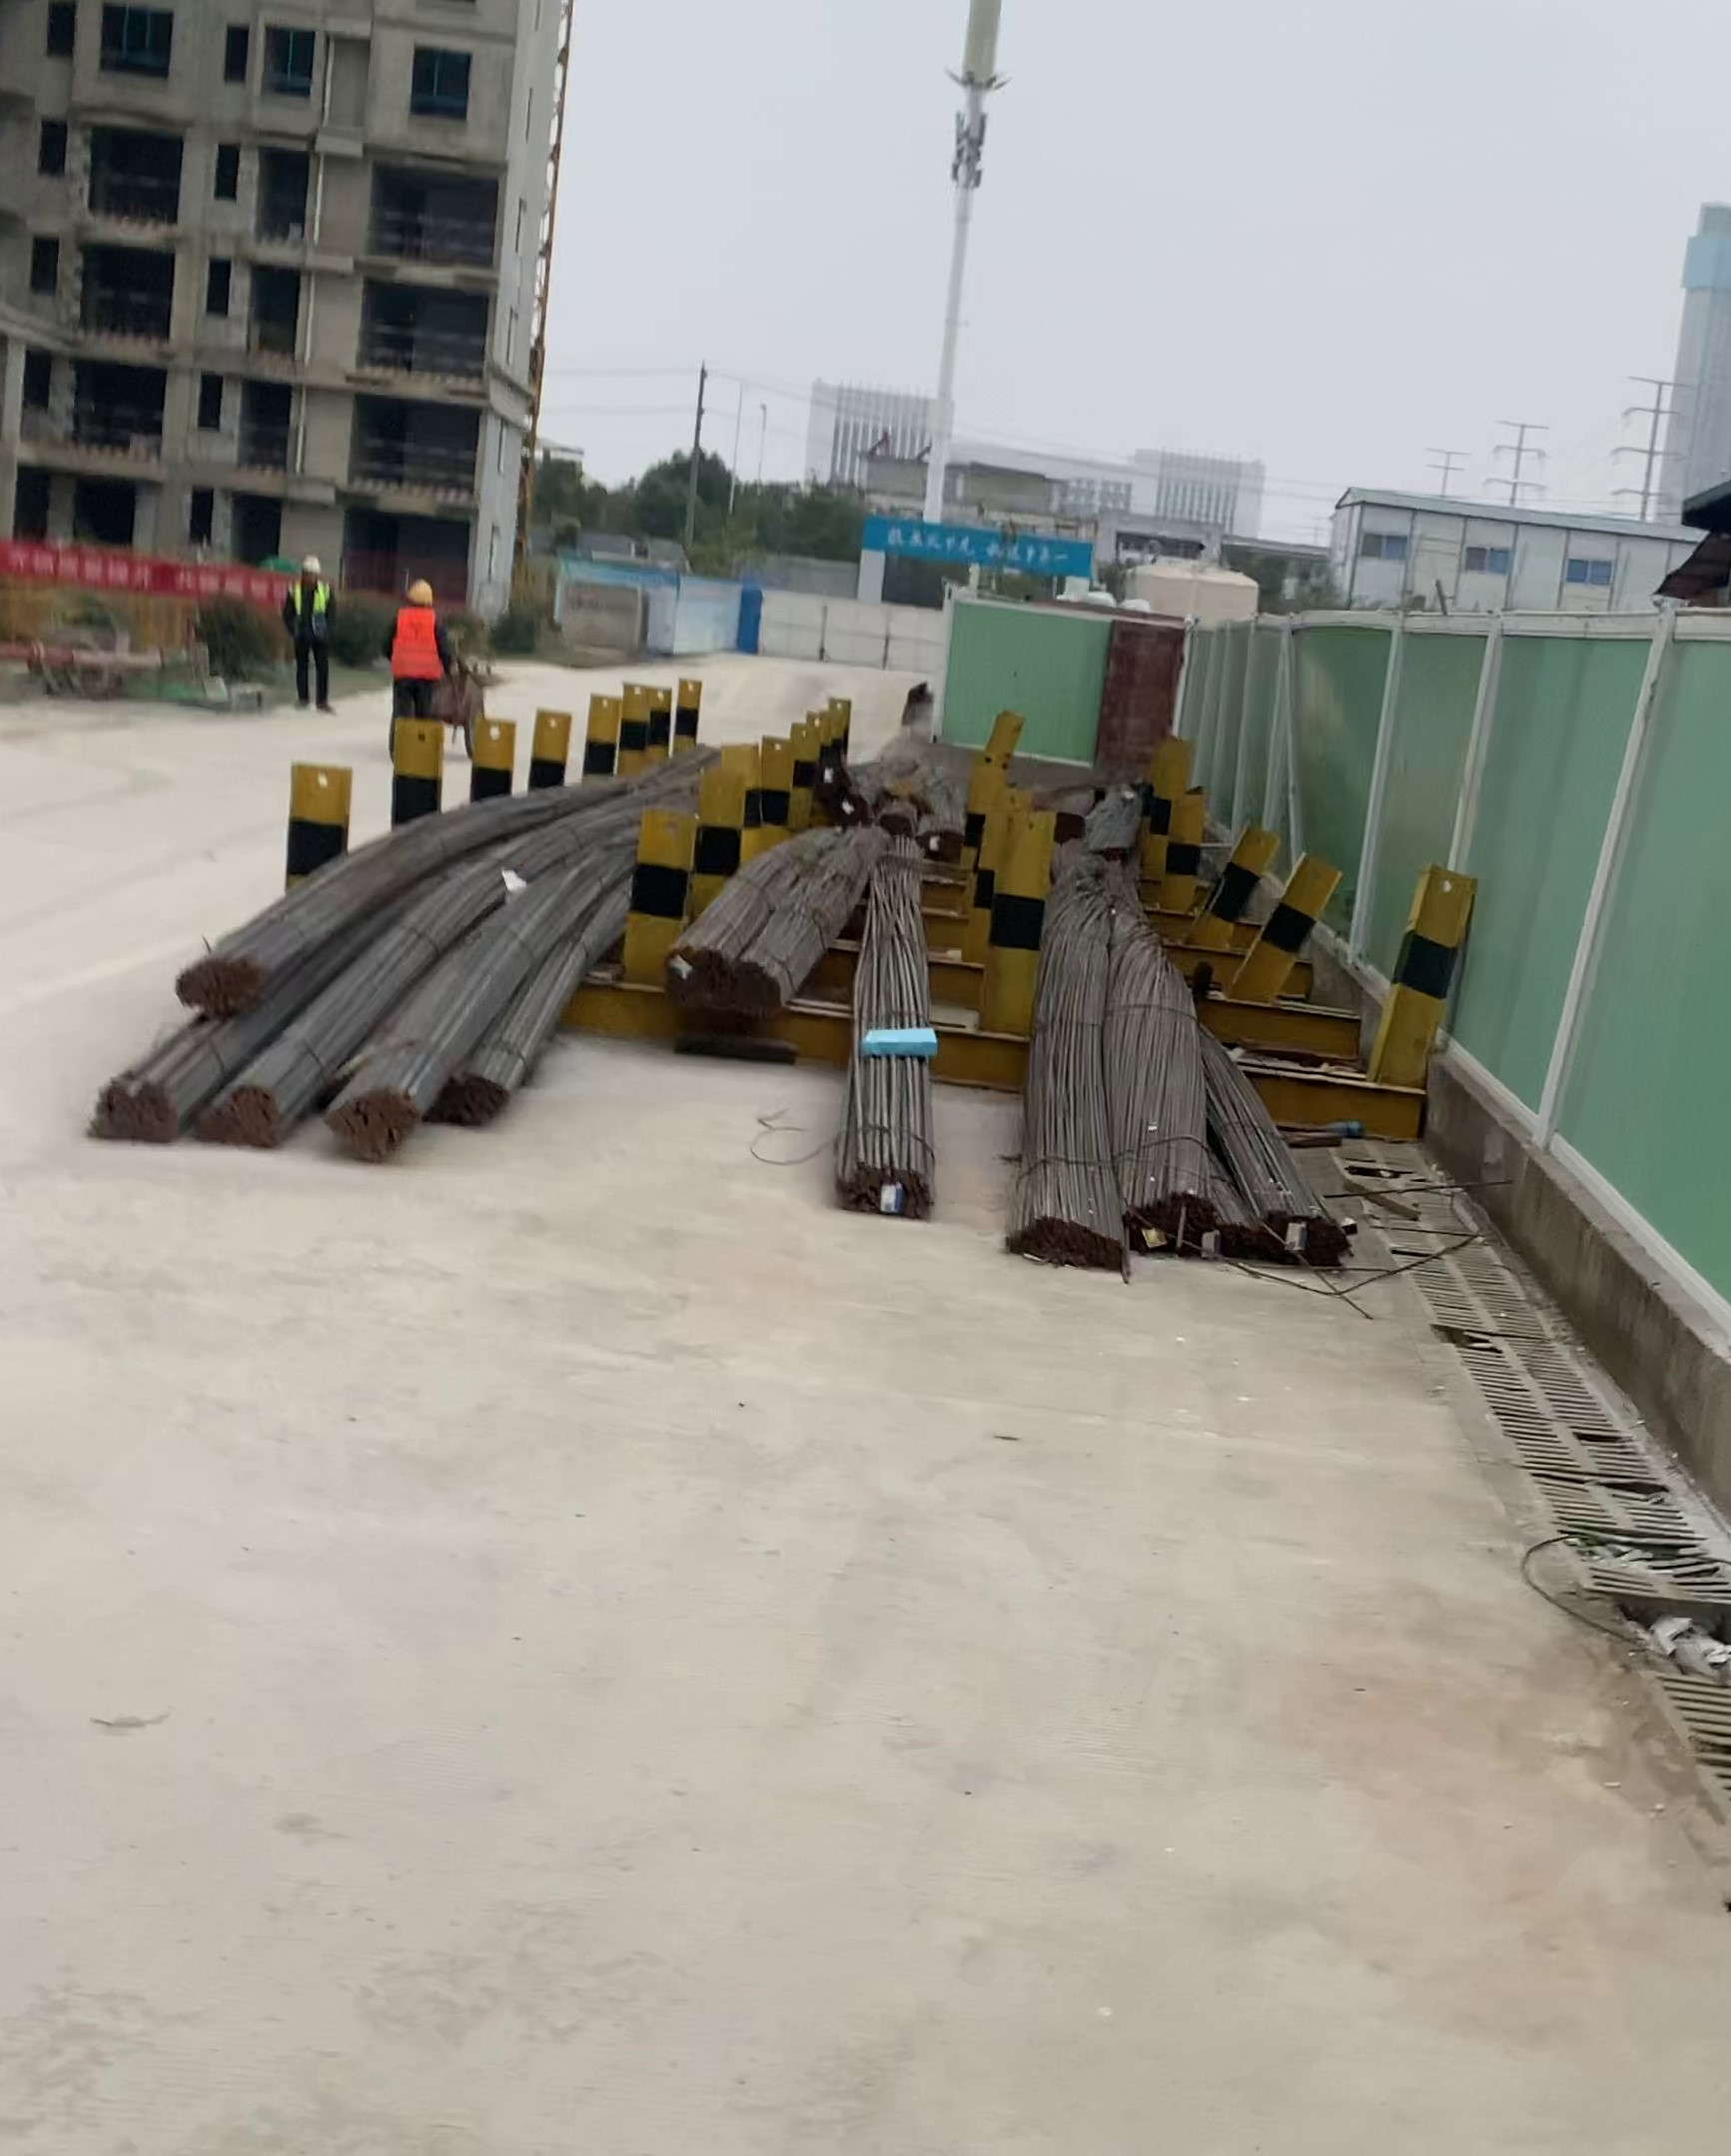rebar: (996, 1219, 1130, 1283), (1213, 1205, 1339, 1271), (327, 1083, 422, 1166), (85, 1067, 184, 1145), (834, 1149, 933, 1214), (1125, 1184, 1206, 1256), (166, 951, 265, 1007), (659, 942, 726, 1020), (198, 1089, 281, 1150), (431, 1069, 514, 1129), (729, 954, 788, 1032)
